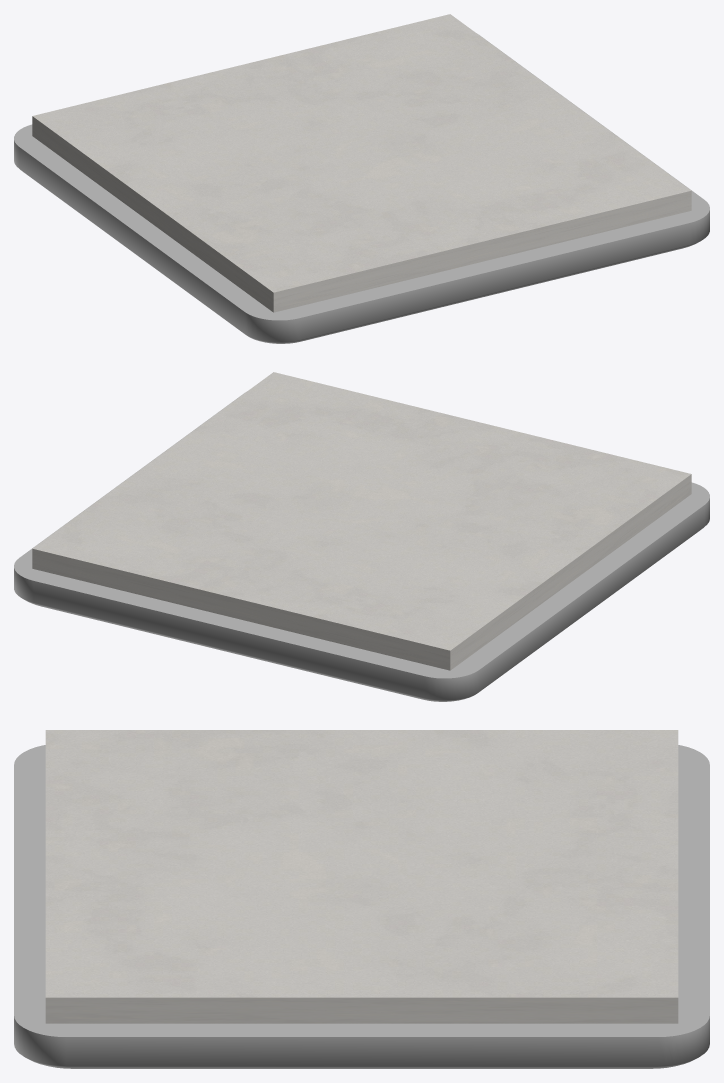
The model's file is nimbus-led-panel.glb.
3 views of the same model, one above another, from view 1: azimuth 30°, elevation 25°; view 2: azimuth 150°, elevation 25°; view 3: azimuth 270°, elevation 25° (orthographic). The views are drawn at different scales.
Parts seen in each view (by area): view 1: stand, light; view 2: stand, light; view 3: stand, light.
Boxes of the visible parts, box(x1,y1,x2,y2) form: stand: box(32, 14, 691, 312); light: box(14, 34, 709, 343); stand: box(32, 372, 691, 670); light: box(14, 392, 709, 701); stand: box(45, 730, 678, 1023); light: box(14, 745, 709, 1068).
Bounding box in the file's own units: 0.528 × 0.0533 × 0.528.
4 materials, 2 textured.
